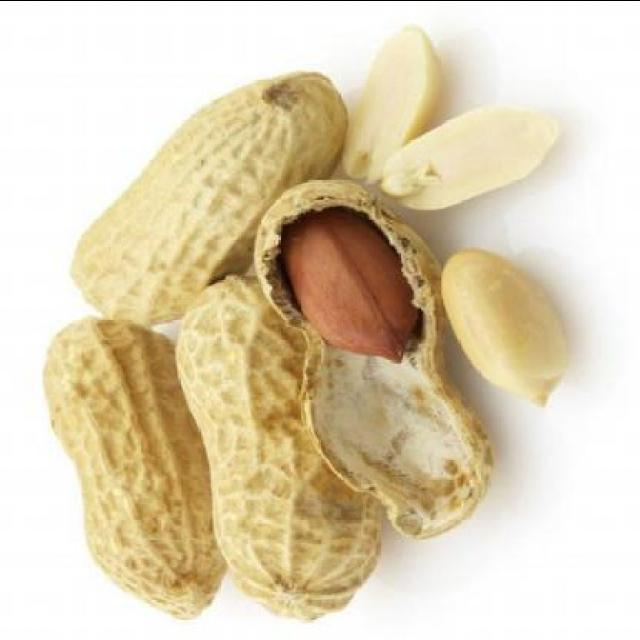Frutta secca: (61, 59, 354, 330), (172, 269, 394, 622), (32, 313, 210, 621), (436, 241, 572, 417), (380, 104, 564, 208)
